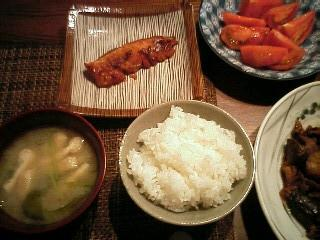rice: (119, 105, 252, 211)
